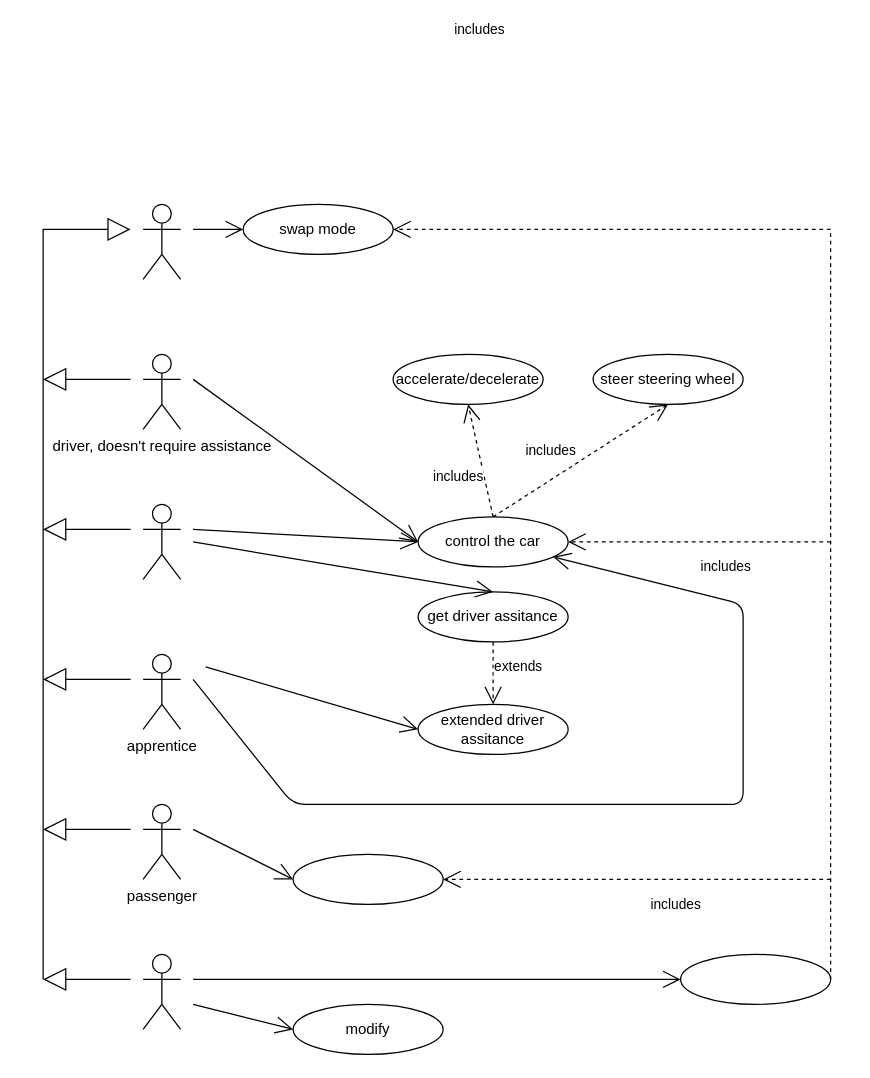
Image size: 870x1078. Some labels were removed from this diagram. Here are the shapes that lost their labels. From the top down, the centre of each, then its label:
At (161,241): "user".
At (161,541): "driver, requires assistance".
At (367,878): "set target direction".
At (161,991): "developer".
At (755,978): "access everything".
